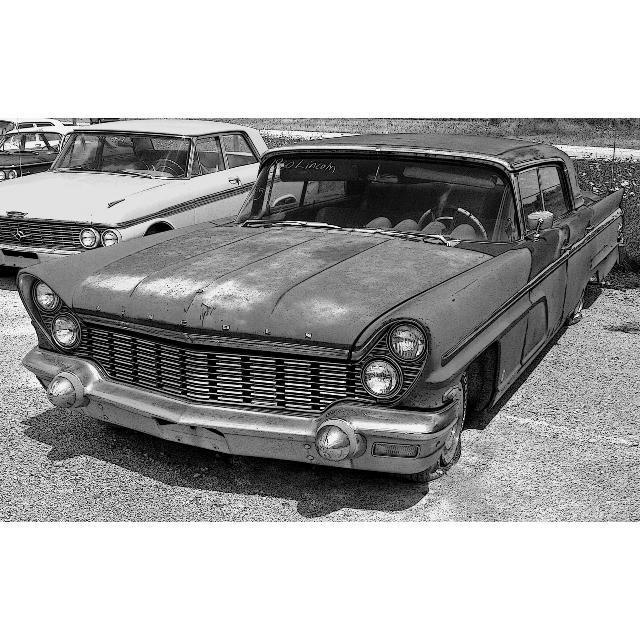bonnet-dent: (114, 203, 437, 324)
